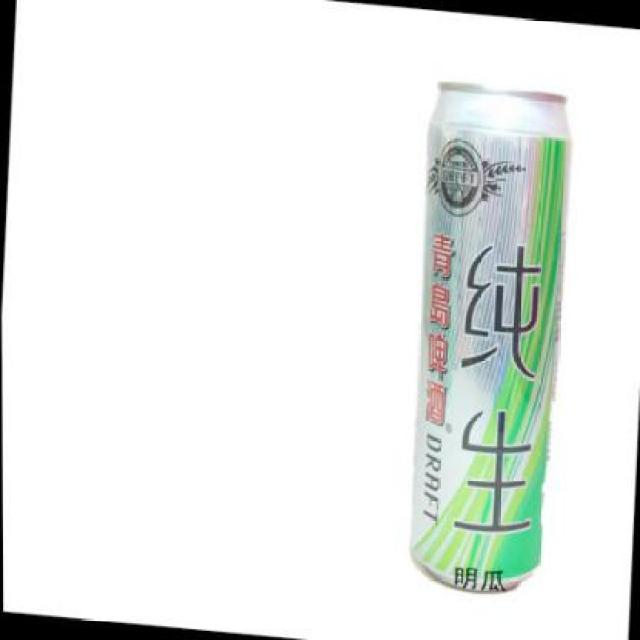Metal: (417, 77, 576, 594)
